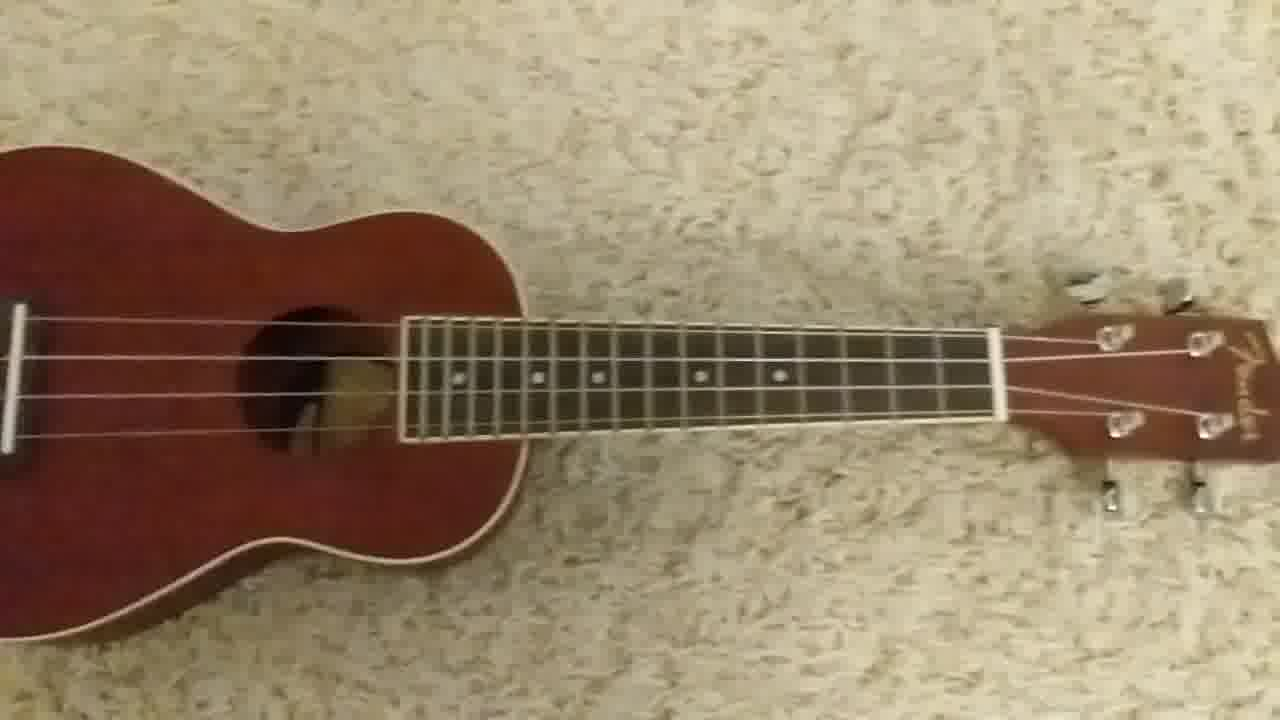Body: (1, 138, 533, 648)
Bridge: (1, 296, 40, 465)
Headstock: (999, 264, 1280, 528)
